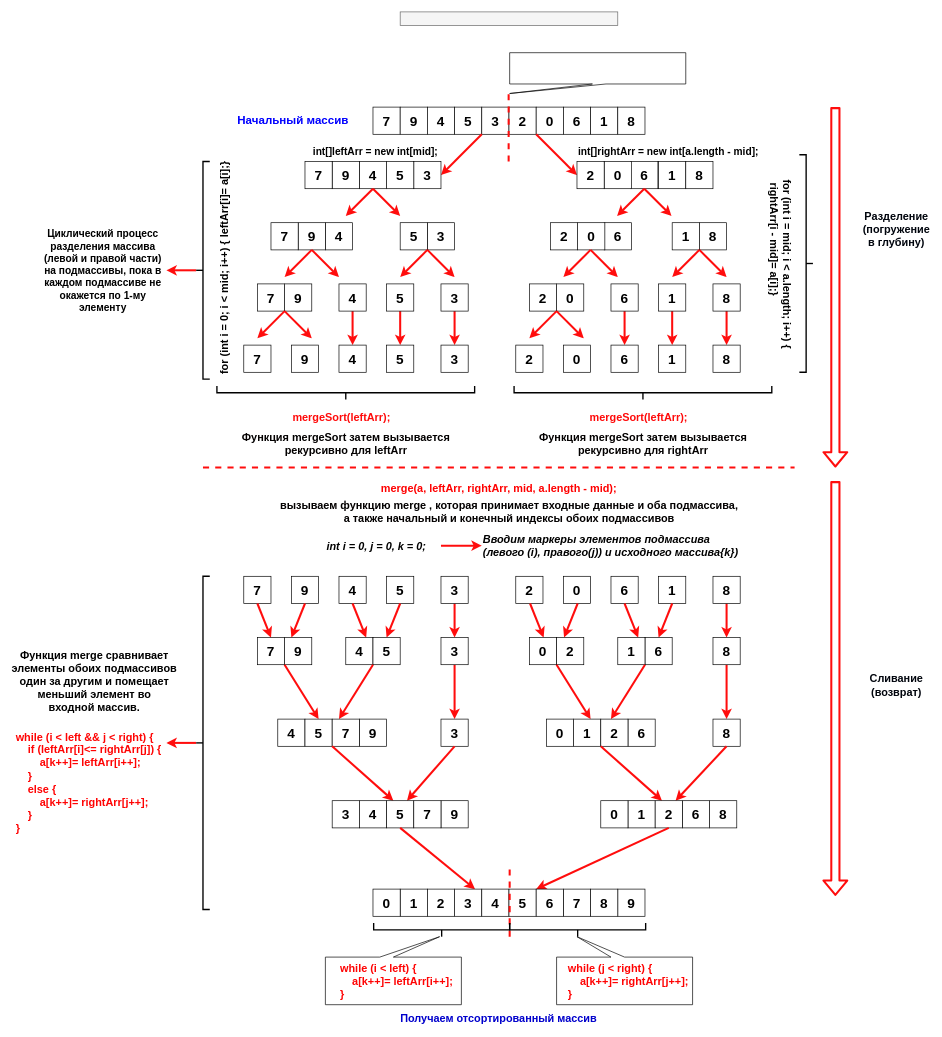
Some shapes in this 942 by 1037 pixel diagram are drawn without their labels. Each missing label, with the centre of its shape:
"Разделение массива пополам int mid = a. length / 2" goes at (x=597, y=73).
"Сортировка слиянием (MergeSort)" goes at (x=509, y=18).
